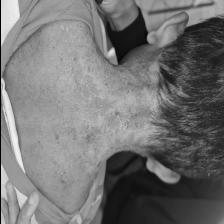DA: (68, 54, 142, 154)
